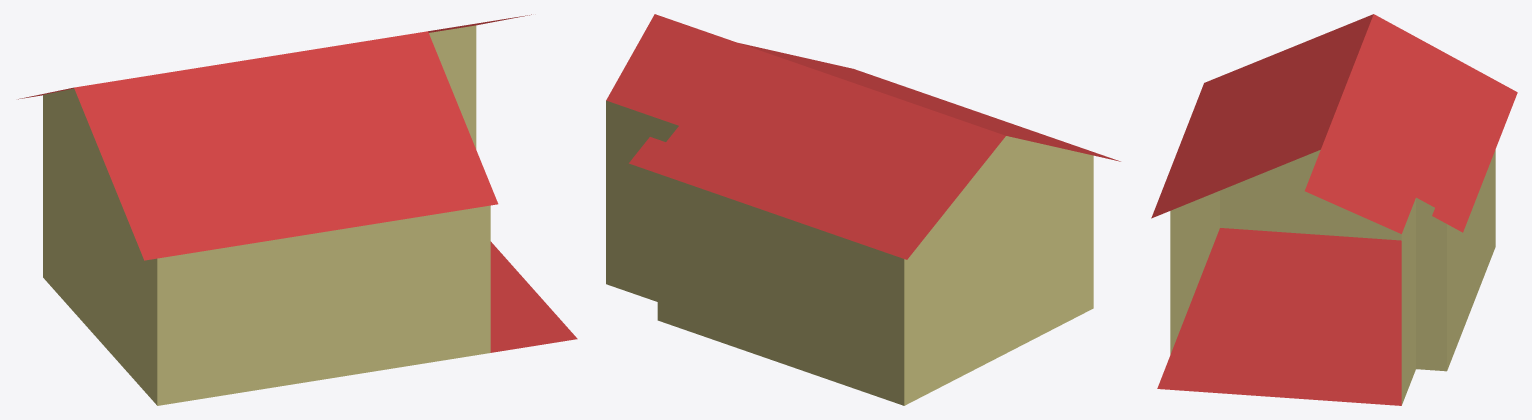
The picture shows the model from 3 angles, left to right: view 1: azimuth 30°, elevation 25°; view 2: azimuth 150°, elevation 25°; view 3: azimuth 270°, elevation 25°; orthographic projection. The views are drawn at different scales.
Size of the model in its own units: 23.13 by 18.96 by 12.34.
